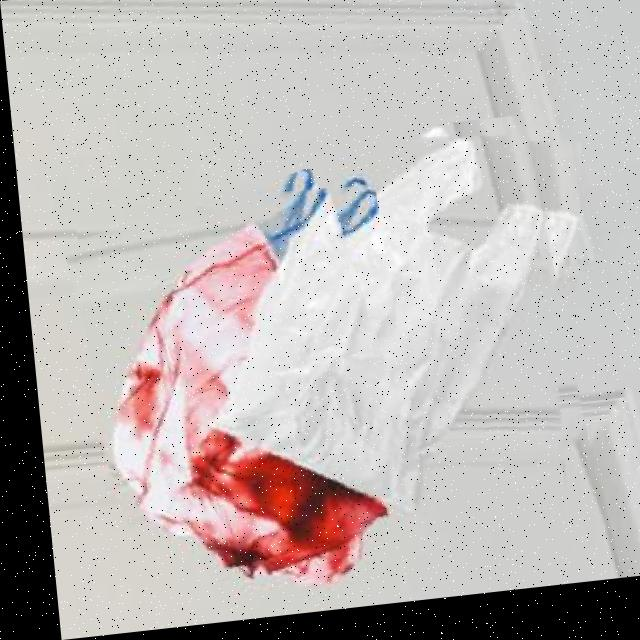plasticcover: (184, 122, 595, 585), (70, 182, 429, 628)
